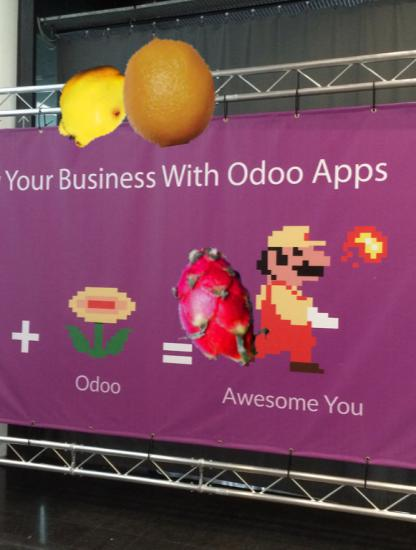Lemon: (111, 32, 225, 146)
Pitahaya: (153, 251, 274, 372)
Quince: (48, 60, 138, 150)
